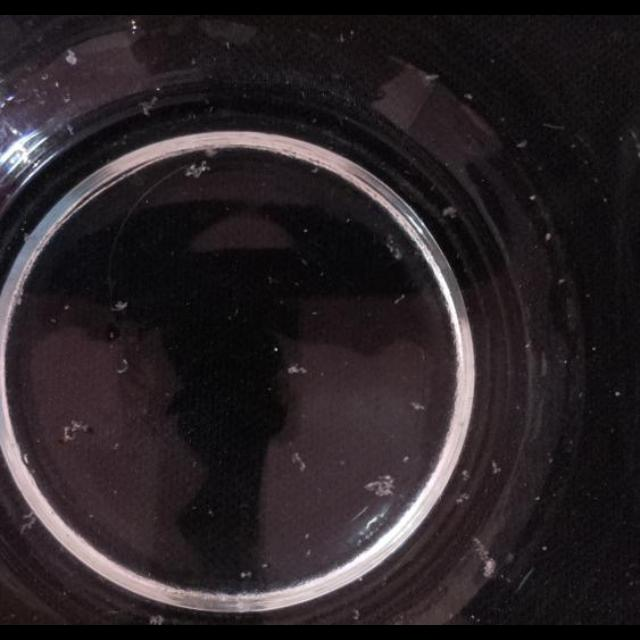Fibre: (472, 539, 496, 575), (60, 418, 92, 444), (364, 474, 396, 498), (184, 160, 212, 178), (386, 237, 404, 261), (140, 98, 160, 116), (292, 451, 306, 473), (286, 362, 308, 376), (19, 516, 36, 534), (442, 206, 458, 220), (64, 49, 78, 65), (112, 300, 128, 312), (409, 401, 425, 412), (424, 74, 438, 82)
microbeads: (456, 492, 468, 504), (393, 294, 405, 304), (62, 92, 72, 104), (492, 461, 501, 474), (460, 468, 470, 479), (516, 140, 528, 148), (240, 570, 252, 578), (402, 454, 410, 464), (544, 232, 552, 242), (339, 32, 347, 42), (463, 93, 472, 101), (112, 442, 120, 451), (528, 194, 536, 202), (310, 165, 318, 173), (558, 277, 566, 285), (206, 508, 214, 516), (304, 548, 312, 556), (304, 532, 310, 540), (603, 196, 609, 204), (534, 494, 540, 502), (614, 389, 620, 396), (54, 82, 60, 88), (64, 304, 70, 310), (591, 346, 597, 352), (302, 228, 308, 234)
